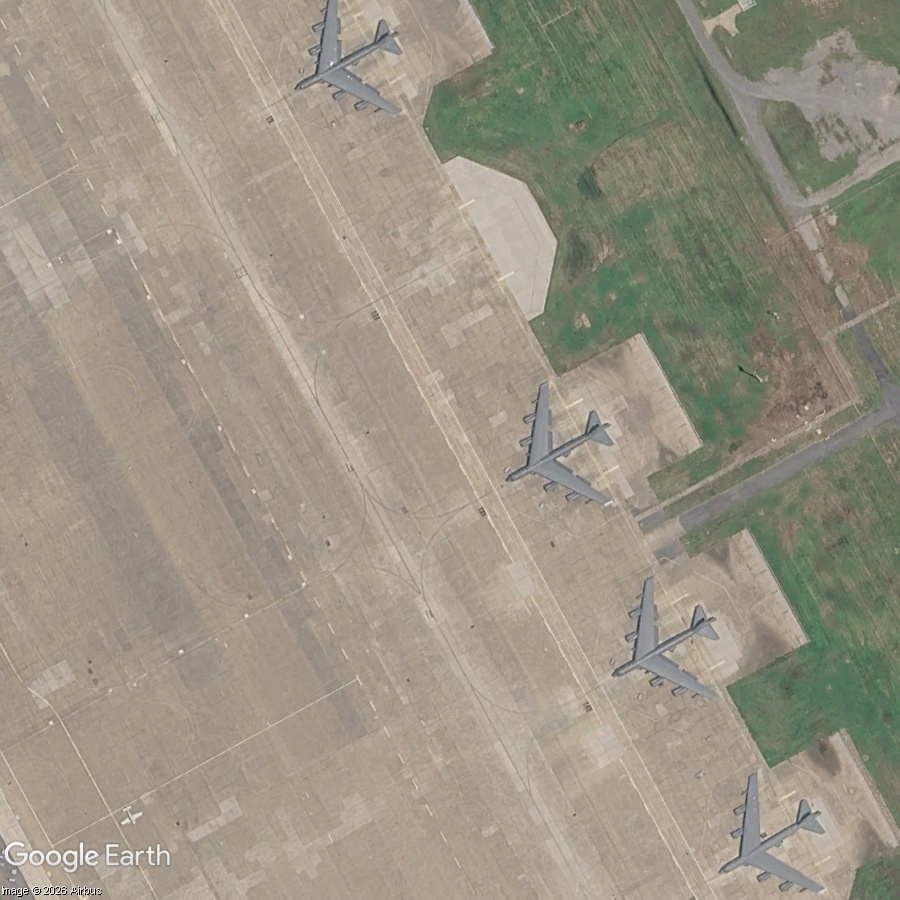Máy bay ném bom: (572, 553, 756, 743), (468, 358, 649, 546), (257, 0, 440, 158), (676, 748, 859, 900)
